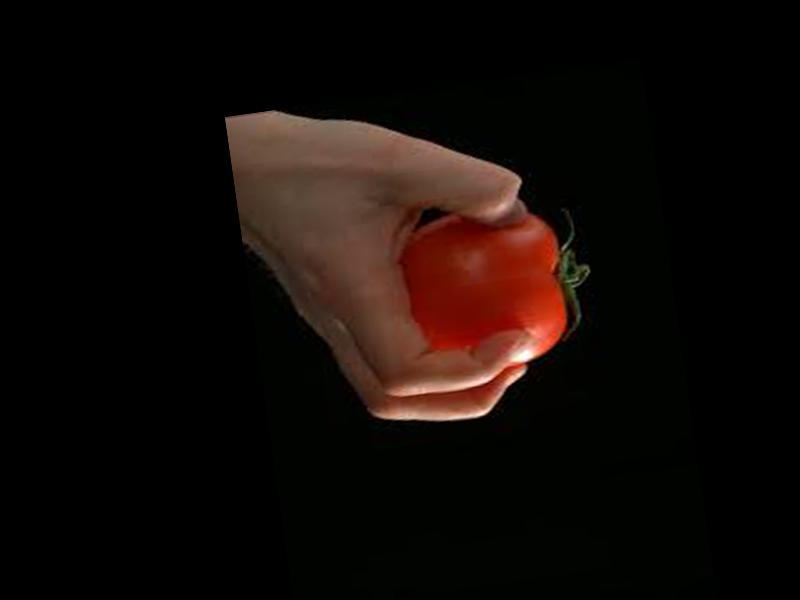Tomato: (400, 197, 598, 376)
